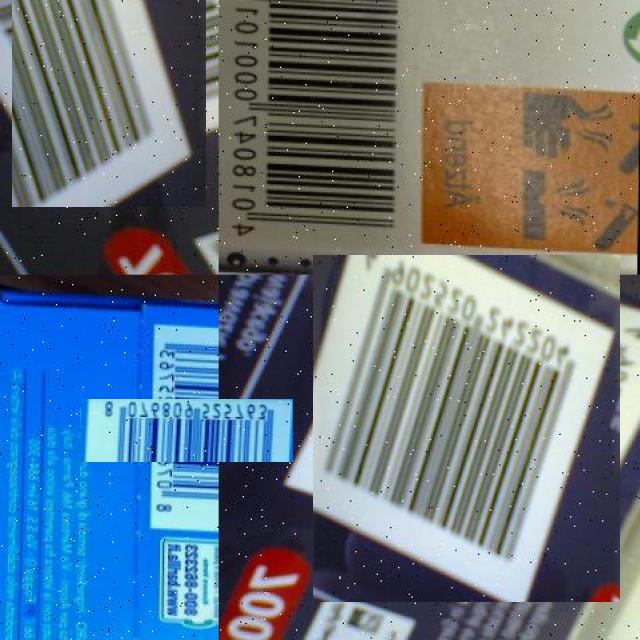Barcode: (303, 265, 630, 592), (219, 0, 409, 251), (7, 0, 213, 200), (117, 361, 256, 500)
